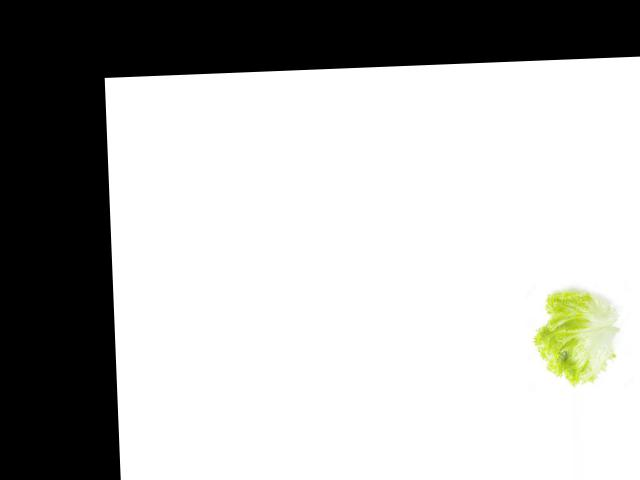lettuce: (534, 279, 624, 390)
